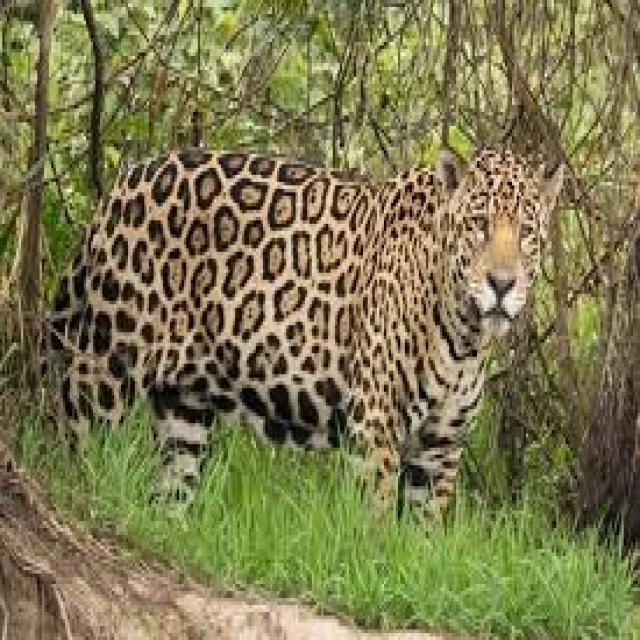Jaguar: (44, 140, 566, 535)
